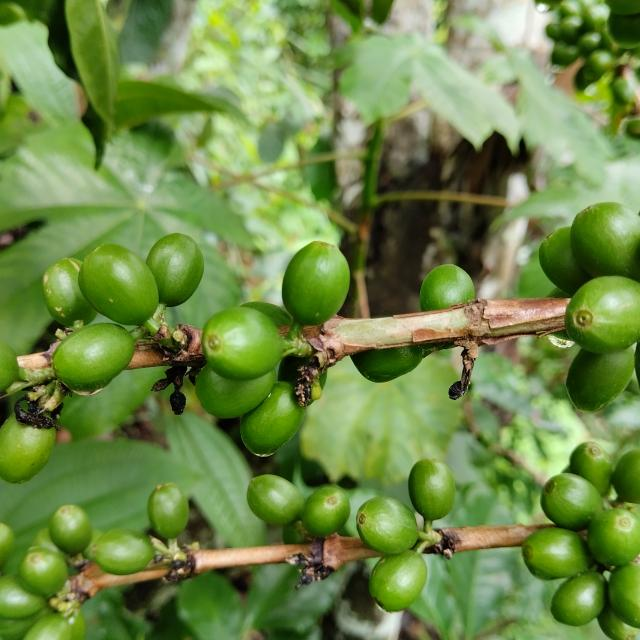green: (78, 244, 158, 326), (201, 307, 284, 380), (51, 323, 134, 395), (282, 241, 350, 326), (566, 276, 640, 354), (571, 202, 640, 281), (240, 382, 305, 457), (567, 347, 636, 413), (145, 233, 204, 307), (195, 365, 275, 419), (42, 258, 97, 327), (0, 415, 55, 484), (523, 528, 594, 581), (541, 474, 605, 532), (540, 226, 592, 296), (357, 497, 419, 555), (370, 551, 428, 613), (552, 571, 608, 627), (588, 509, 640, 567), (409, 459, 456, 522), (247, 475, 304, 526), (93, 530, 154, 576), (351, 345, 424, 383), (420, 264, 475, 311), (301, 487, 351, 538), (18, 548, 67, 597), (570, 442, 613, 497), (147, 483, 189, 539), (48, 506, 91, 557), (610, 563, 640, 629), (0, 576, 45, 620), (0, 607, 51, 640), (613, 448, 640, 505), (599, 605, 640, 640), (240, 301, 293, 327), (22, 614, 71, 640), (30, 529, 60, 554), (81, 530, 103, 562)
